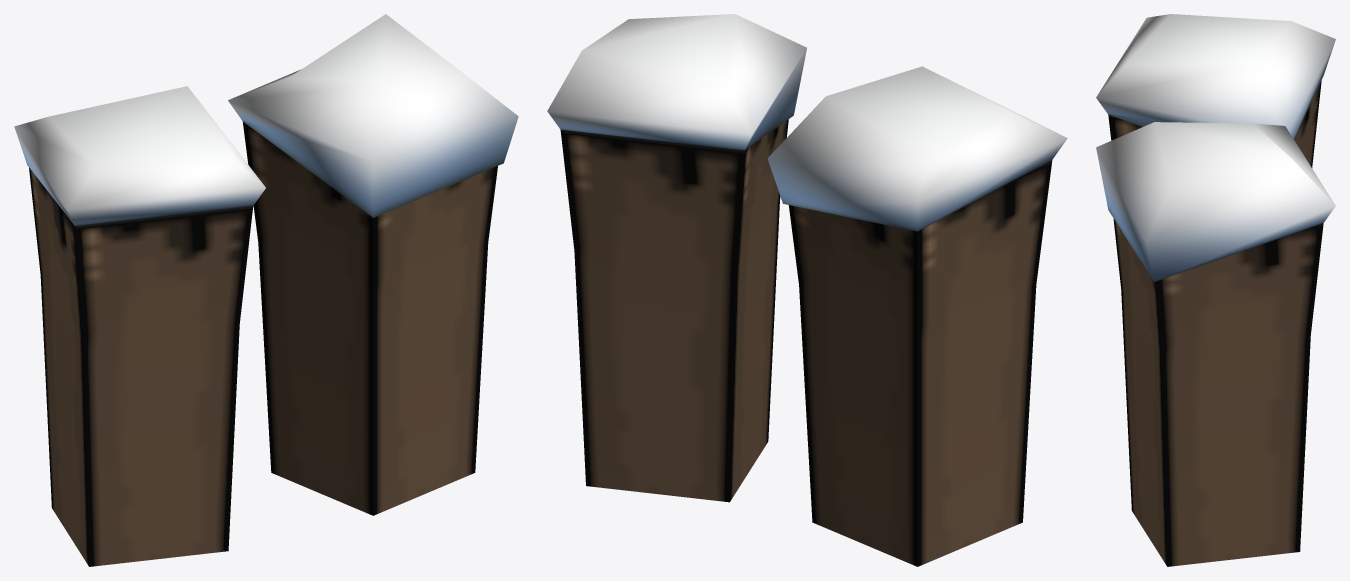
Rendered from deco_winter_polesSnow.FBX.
3 views of the same model, side by side, from view 1: azimuth 30°, elevation 25°; view 2: azimuth 150°, elevation 25°; view 3: azimuth 270°, elevation 25° (orthographic). The views are drawn at different scales.
Visible parts, largest first — view 1: deco_winter_polesSnow; view 2: deco_winter_polesSnow; view 3: deco_winter_polesSnow.
Boxes of the visible parts, box(x1,y1,x2,y2) form: deco_winter_polesSnow: box(14, 14, 518, 566); deco_winter_polesSnow: box(547, 14, 1067, 566); deco_winter_polesSnow: box(1096, 14, 1335, 566).
Bounding box in the file's own units: 1.95 × 1.73 × 0.9425.
1 material, 1 textured.
